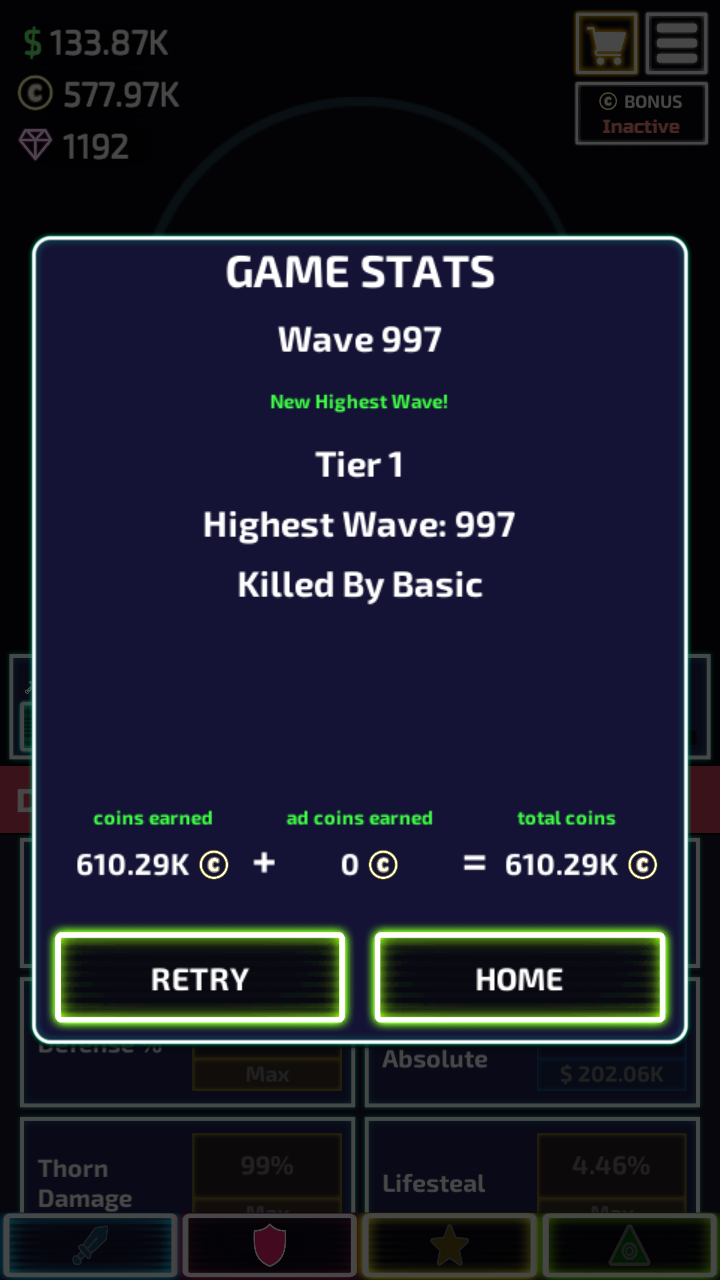B_Game_Over_Home: (370, 924, 668, 1025)
B_Game_Over_Retry: (53, 924, 352, 1024)
B_Menu_Closed: (575, 7, 705, 77)
B_Slot: (22, 1119, 350, 1209), (369, 1119, 696, 1205), (21, 1039, 350, 1101), (368, 1042, 696, 1103)
B_Slot_Button: (191, 1135, 338, 1204), (537, 1139, 690, 1203), (534, 1039, 678, 1096), (191, 1042, 346, 1092)
B_Slot_Label: (21, 1146, 141, 1216), (369, 1161, 491, 1205), (372, 1041, 497, 1079)
B_Slot_Maxed: (532, 1139, 689, 1207), (185, 1045, 351, 1098), (192, 1141, 335, 1202)
B_Slot_Price: (545, 1052, 669, 1095)
B_Slot_Value: (545, 1141, 676, 1182), (207, 1139, 315, 1186)
B_Tab_Defense: (0, 771, 36, 833), (684, 767, 717, 830)
